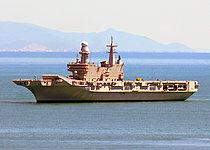MIL_Ship: (12, 35, 201, 103)
